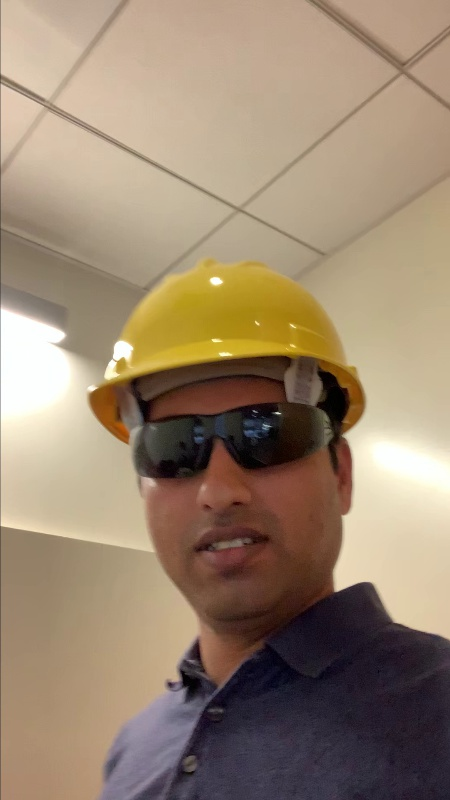glasses: (118, 406, 343, 476)
helmet: (70, 256, 395, 403)
